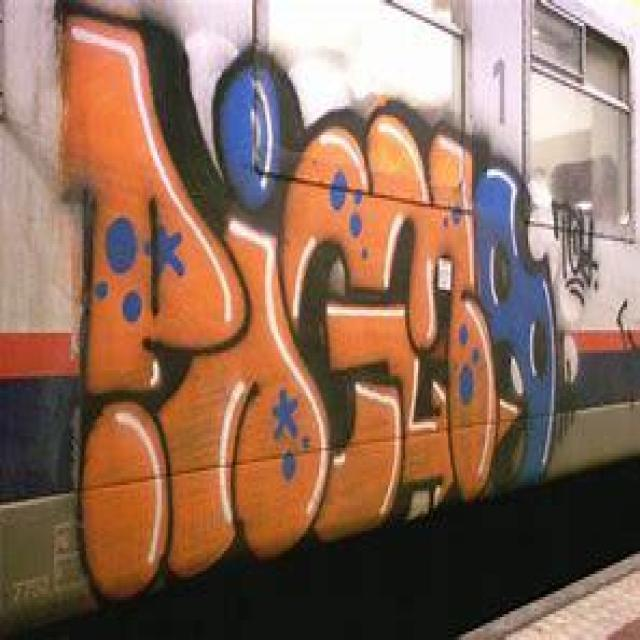nonspitting: (58, 6, 556, 606), (549, 195, 600, 306)
